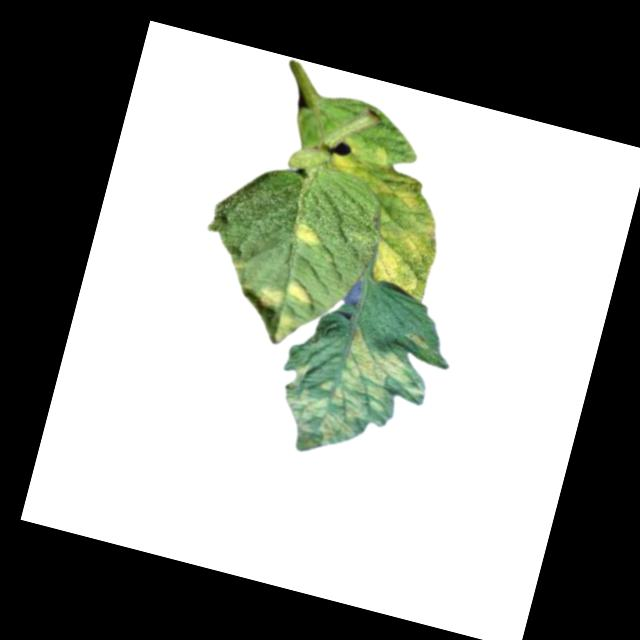Leaf_Mold: (271, 310, 437, 479), (320, 130, 448, 218), (368, 209, 446, 298), (287, 213, 327, 248), (269, 311, 301, 348), (282, 277, 316, 305), (254, 285, 286, 312)
